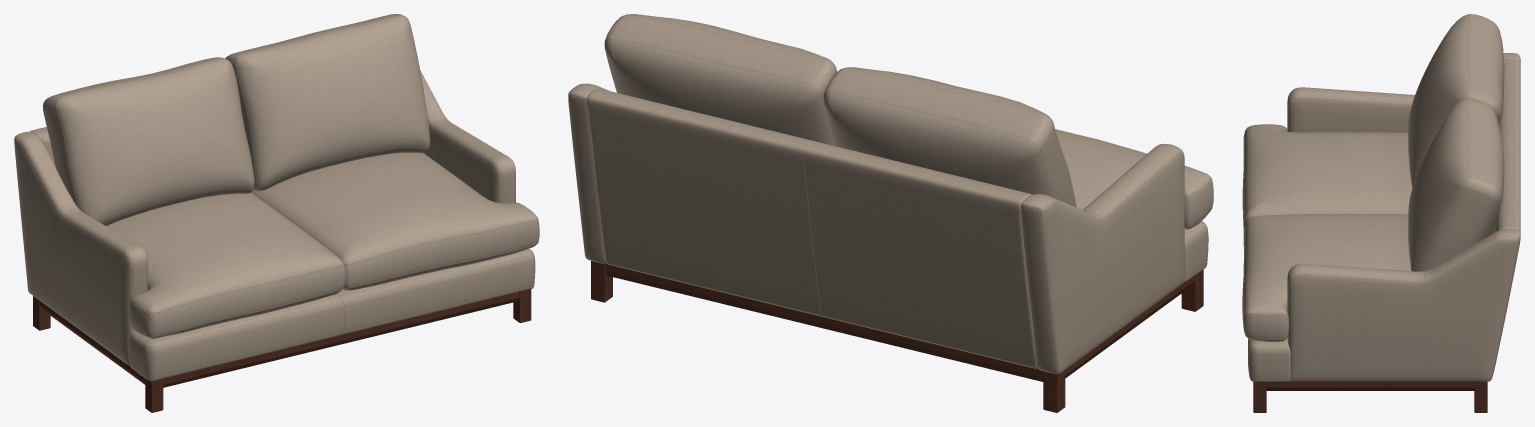
The model's file is sofa_B07J2KGCF7.glb.
The picture shows the model from 3 angles, left to right: view 1: azimuth 30°, elevation 25°; view 2: azimuth 150°, elevation 25°; view 3: azimuth 270°, elevation 25°; orthographic projection. The views are drawn at different scales.
Parts seen in each view (by area): view 1: RootNode; view 2: RootNode; view 3: RootNode.
Part boxes in pixels (bbox=[...]): RootNode: bbox=[14, 14, 539, 412]; RootNode: bbox=[568, 14, 1213, 412]; RootNode: bbox=[1242, 14, 1520, 412].
Size of the model in its own units: 1.62 by 0.9097 by 1.
Materials: 1 (1 with a texture image).
